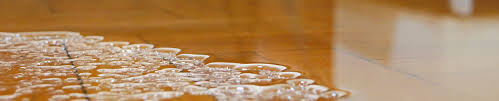Wet-floor: (4, 29, 346, 101)
